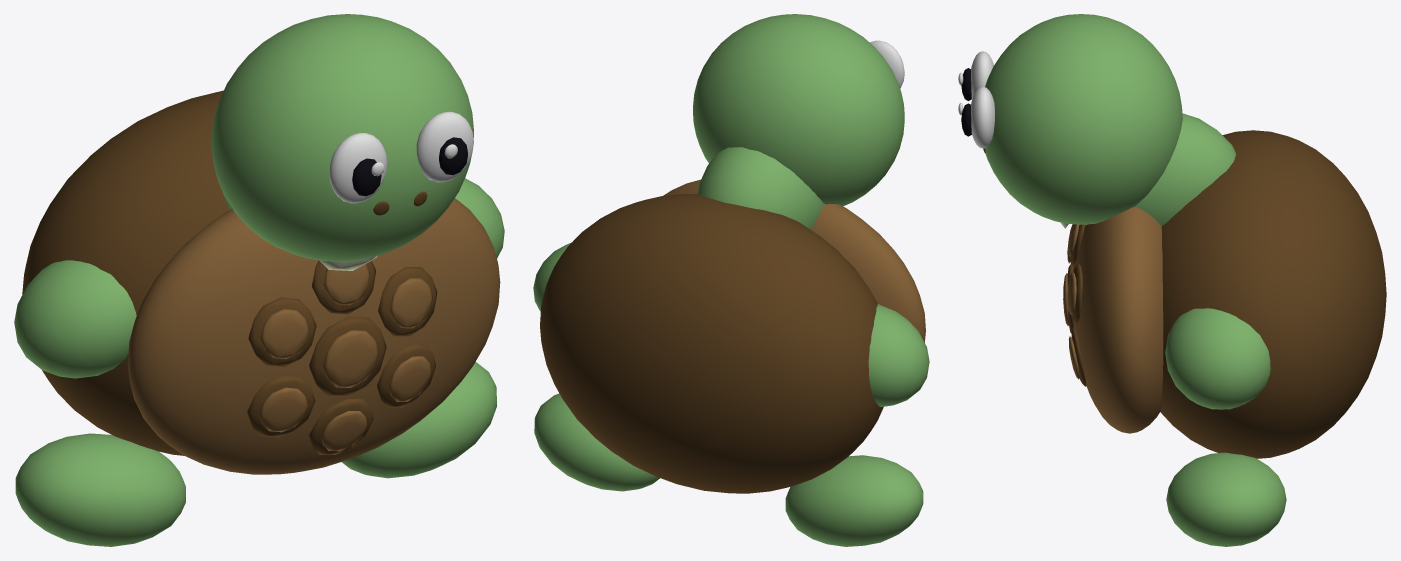
Rendered from turtle.glb.
3 renders of one model, left to right at view 1: azimuth 30°, elevation 25°; view 2: azimuth 150°, elevation 25°; view 3: azimuth 270°, elevation 25°, orthographic. The views are drawn at different scales.
Visible parts, largest first — view 1: turtle; view 2: turtle; view 3: turtle.
Part boxes in pixels (<box>): turtle: <box>14,14,504,546</box>; turtle: <box>533,14,929,546</box>; turtle: <box>958,14,1386,546</box>.
Size of the model in its own units: 1.05 by 1.15 by 0.9843.
